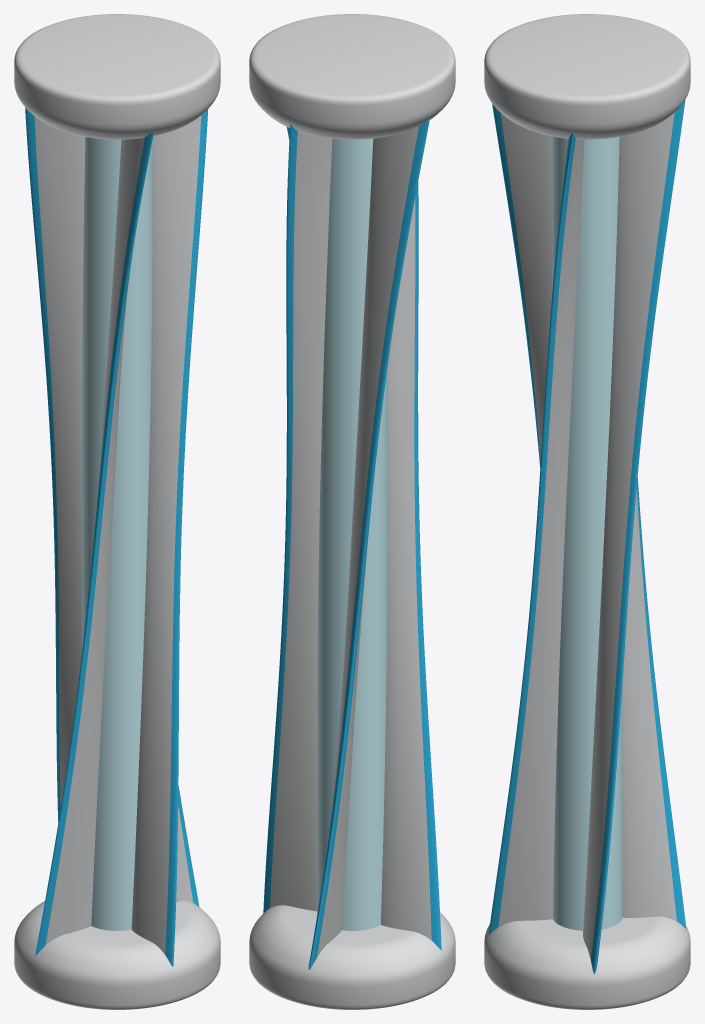
Rendered from Pillar_D10_WaveFins.fbx.
The picture shows the model from 3 angles, left to right: view 1: azimuth 30°, elevation 25°; view 2: azimuth 150°, elevation 25°; view 3: azimuth 270°, elevation 25°; orthographic projection.
Visible parts, largest first — view 1: Pillar_D10_WaveFins; view 2: Pillar_D10_WaveFins; view 3: Pillar_D10_WaveFins.
Part boxes in pixels (bbox=[...]): Pillar_D10_WaveFins: bbox=[14, 14, 220, 1009]; Pillar_D10_WaveFins: bbox=[249, 14, 455, 1009]; Pillar_D10_WaveFins: bbox=[484, 14, 690, 1009].
Bounding box in the file's own units: 0.82 × 4 × 0.82.
